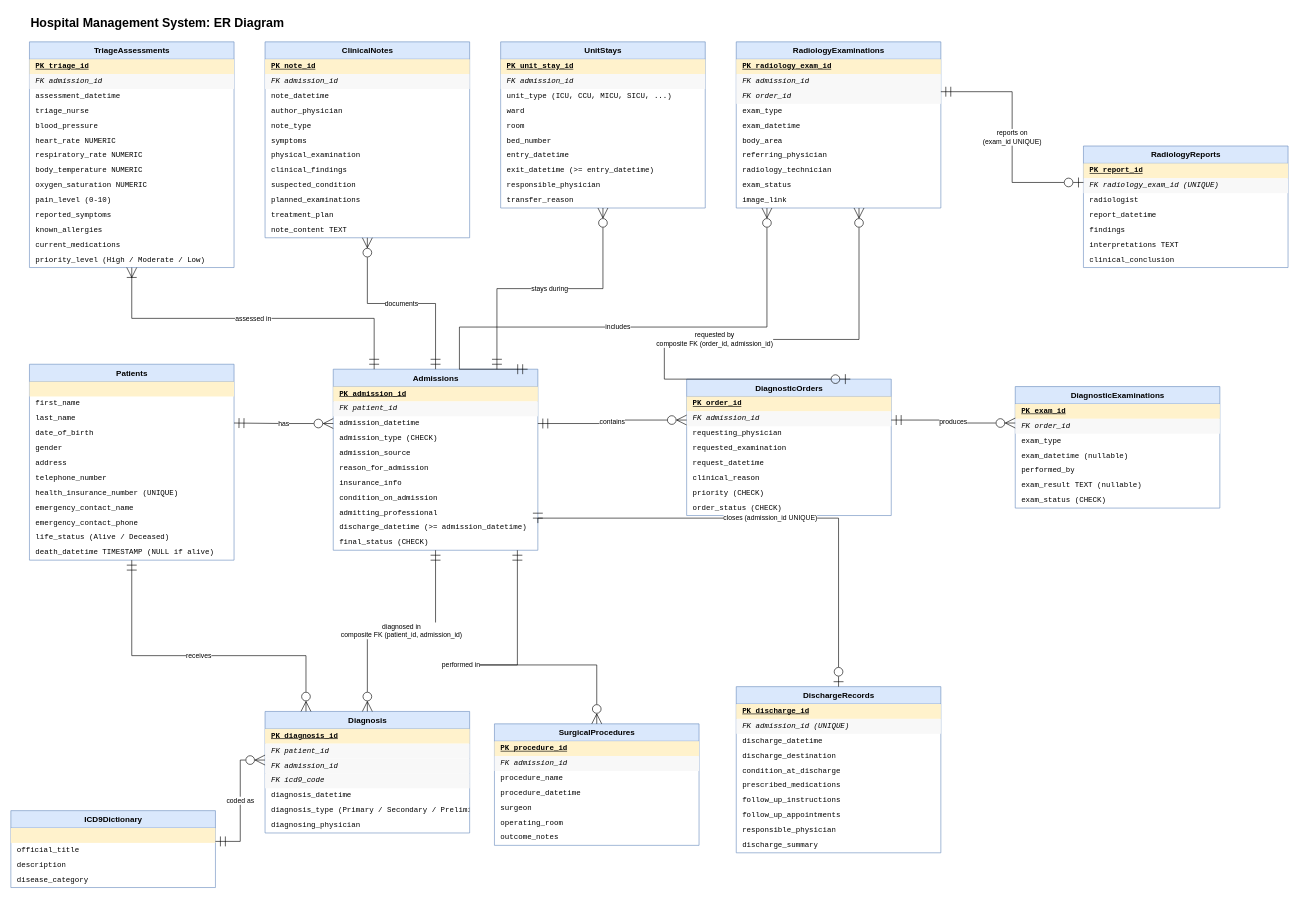
Some shapes in this 1299 by 898 pixel diagram are drawn without their labels. The centre of each missing label's shape, as x and y in pixels:
"PK icd9_code" belongs at (x=113, y=835).
"PK patient_id" belongs at (x=131, y=388).
